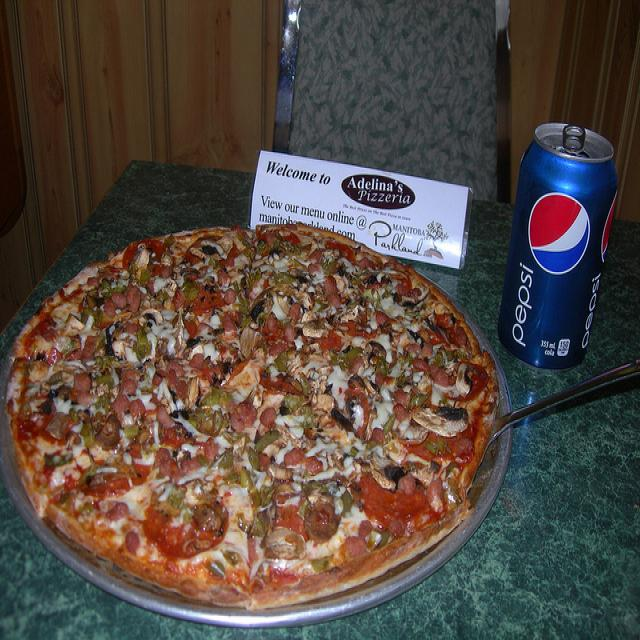chair: (271, 1, 514, 205)
dining table: (0, 157, 640, 631)
fork: (480, 360, 639, 469)
pizza: (4, 223, 502, 610)
